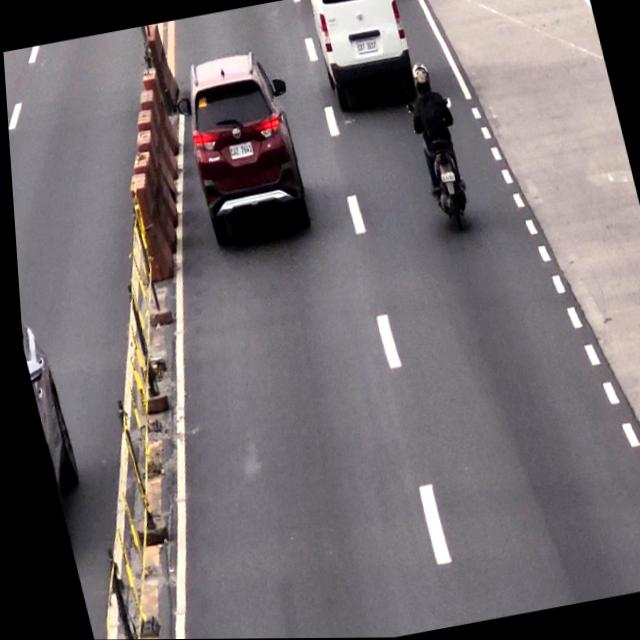Car: (172, 50, 305, 245)
License-Plate: (225, 139, 253, 161), (354, 36, 381, 54)
Motorcycle: (400, 61, 475, 231)
